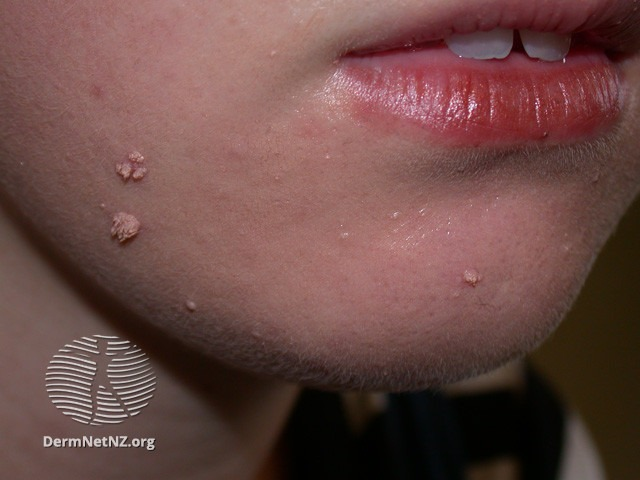Warts: (104, 135, 154, 192), (101, 200, 146, 250), (456, 256, 489, 296)
